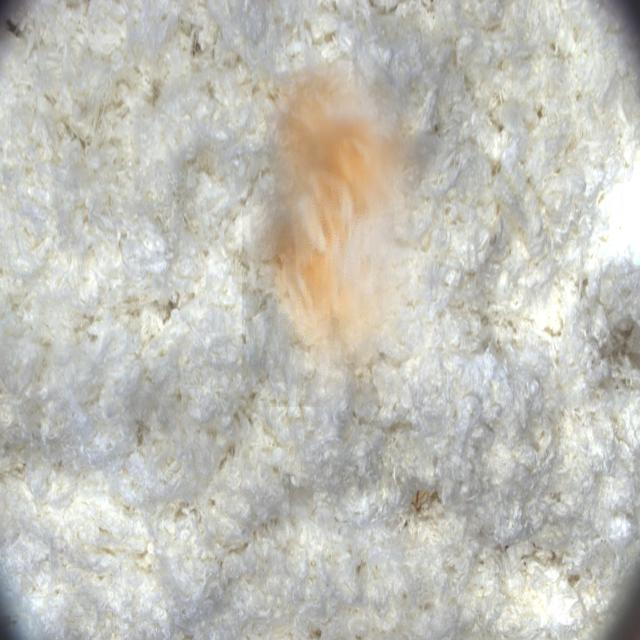dust: (242, 58, 437, 407)
